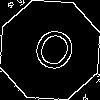O: (25, 25, 80, 83)
